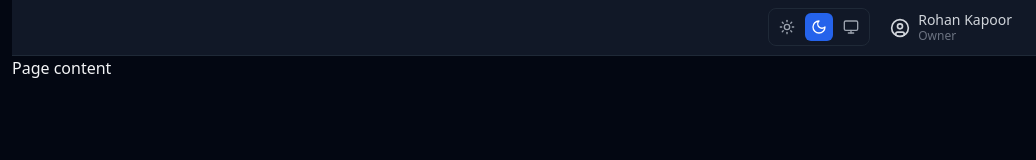
it: Header account menu › closes on Escape and returns focus to the account button
Click the button with aria-label "Account menu" at (951,28), box [882,5,1020,50]
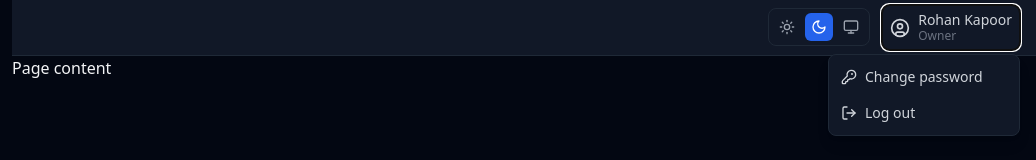
Press Escape
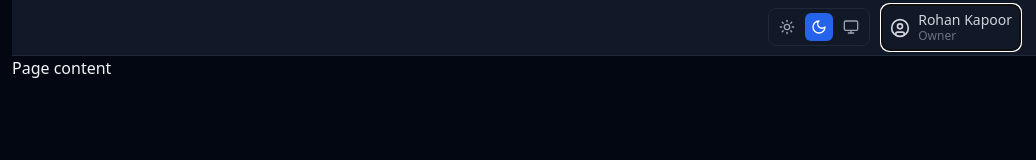
Check: the button "Log out" is gone
